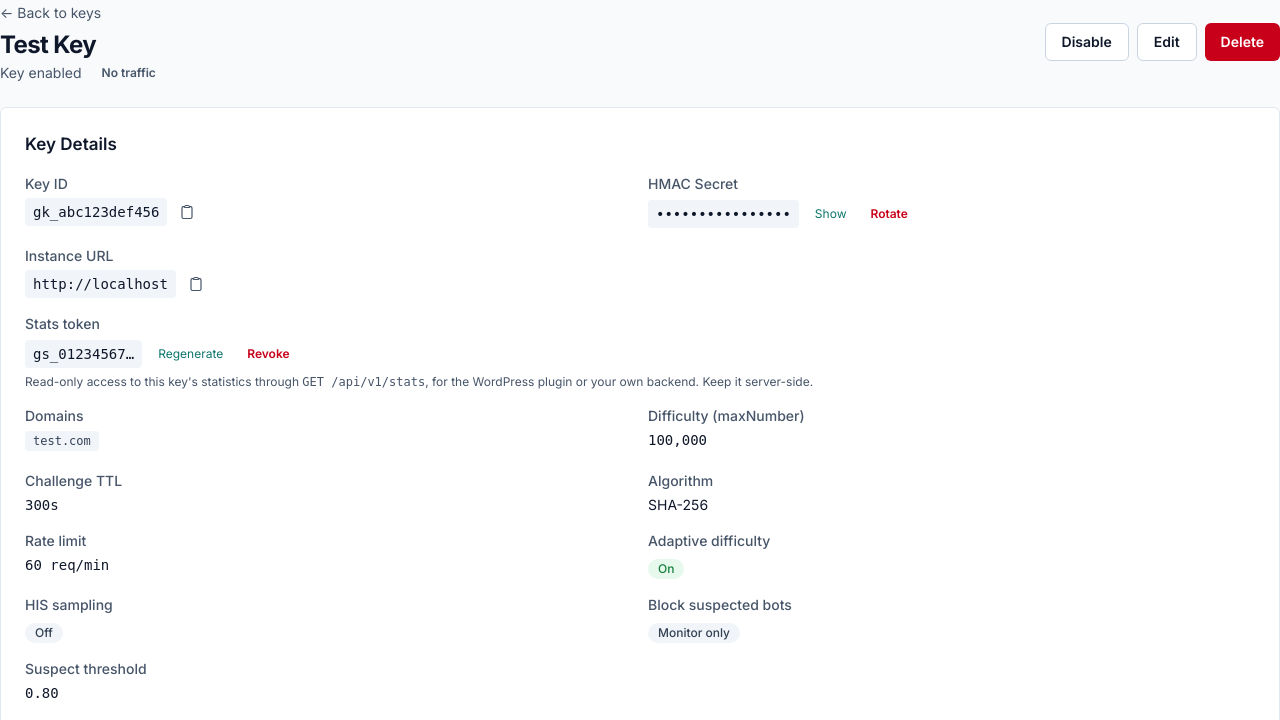
Test: ApiKeyDetailView › revokes the stats token only after confirmation
The image size is (1280, 720).
Click the button "Revoke" at coordinates (268, 354), box [239, 338, 298, 370]
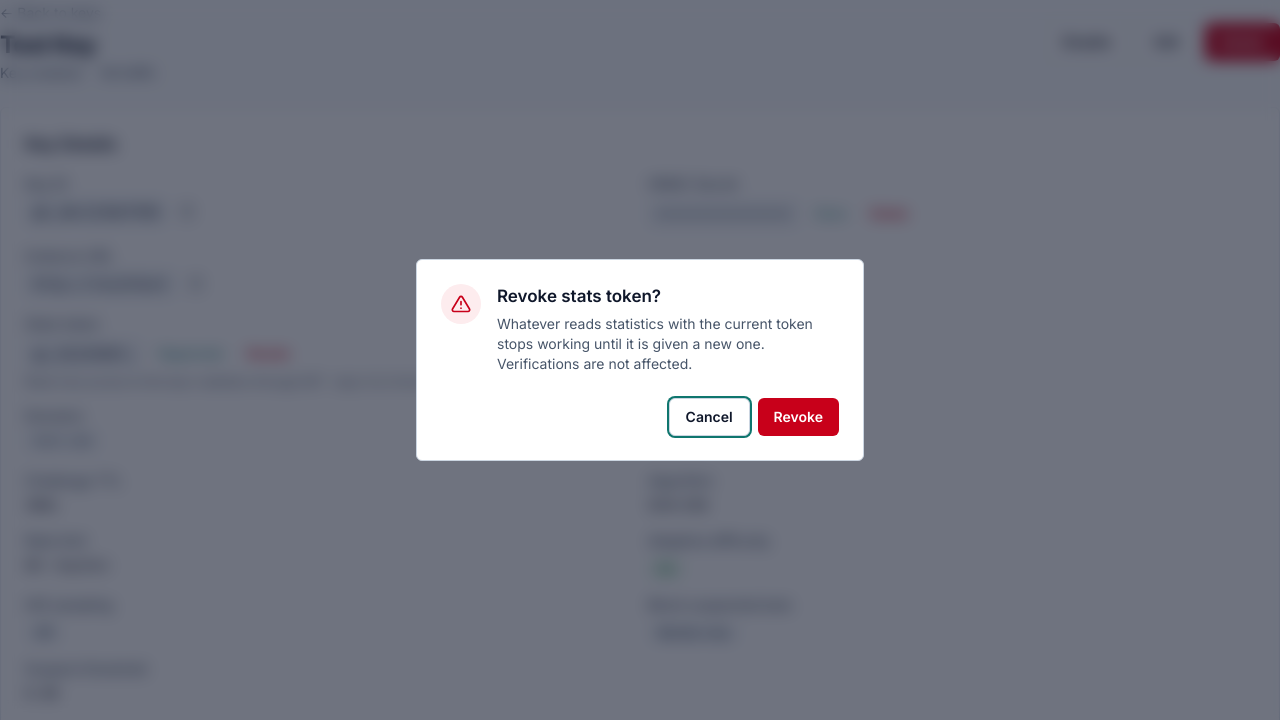
Click the button "Revoke" at coordinates (798, 417), box [758, 398, 839, 436]
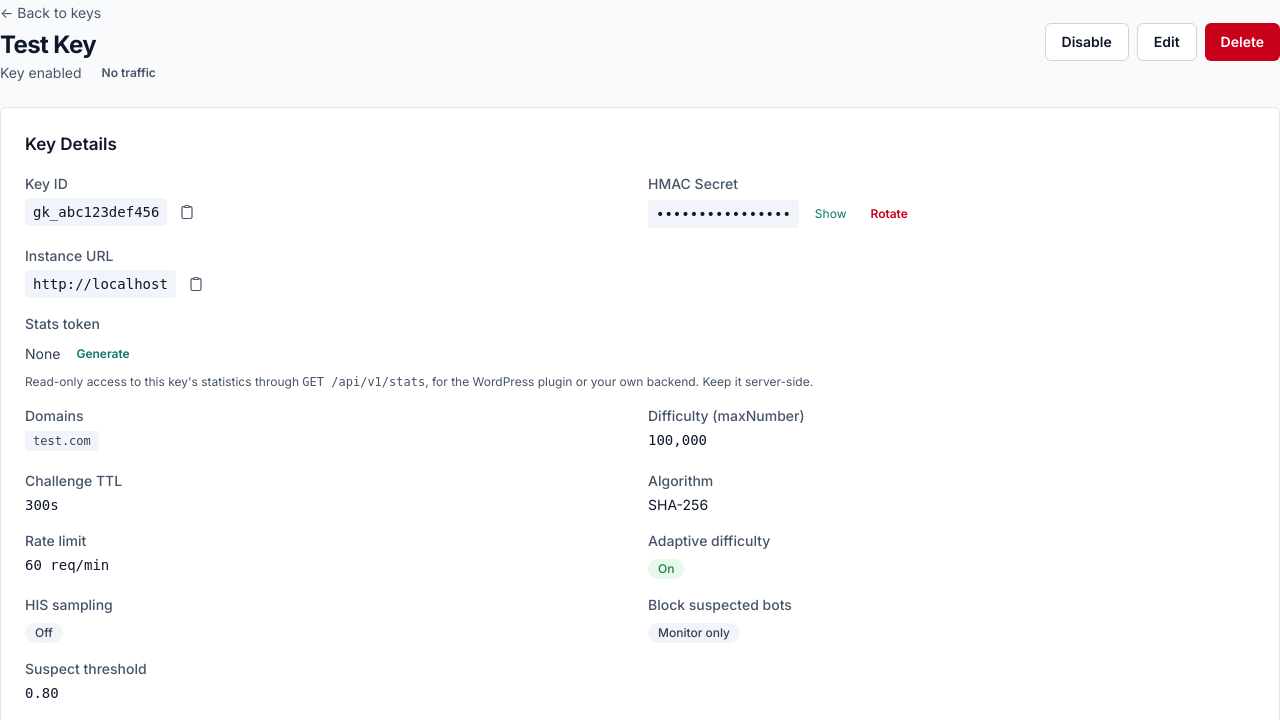
Now the text "None" is shown, box [25, 344, 60, 364]
